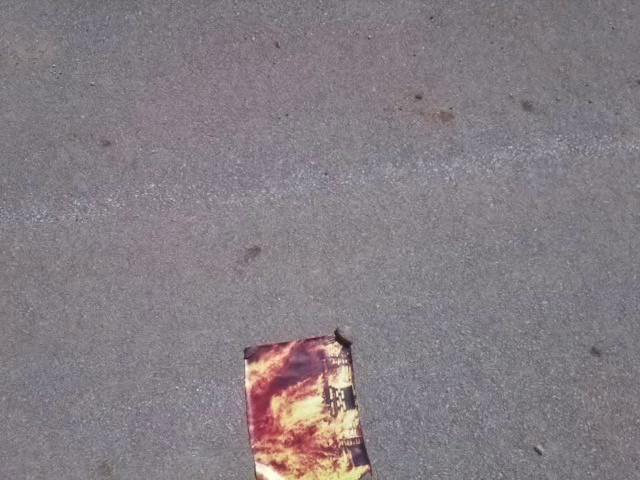fire-poster: (240, 326, 375, 479)
